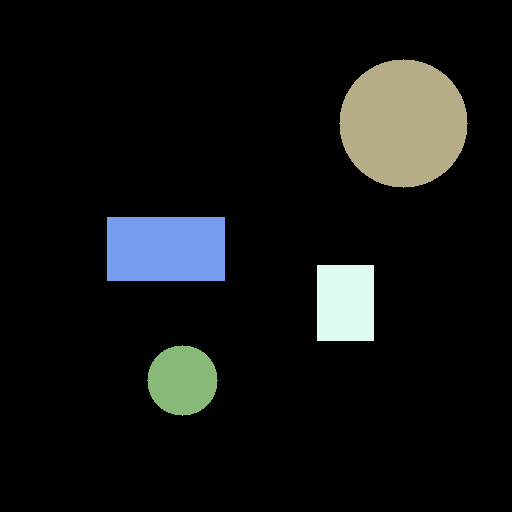circle: (339, 59, 467, 187), (147, 345, 217, 415)
rectangle: (107, 217, 224, 280), (317, 265, 373, 340)
